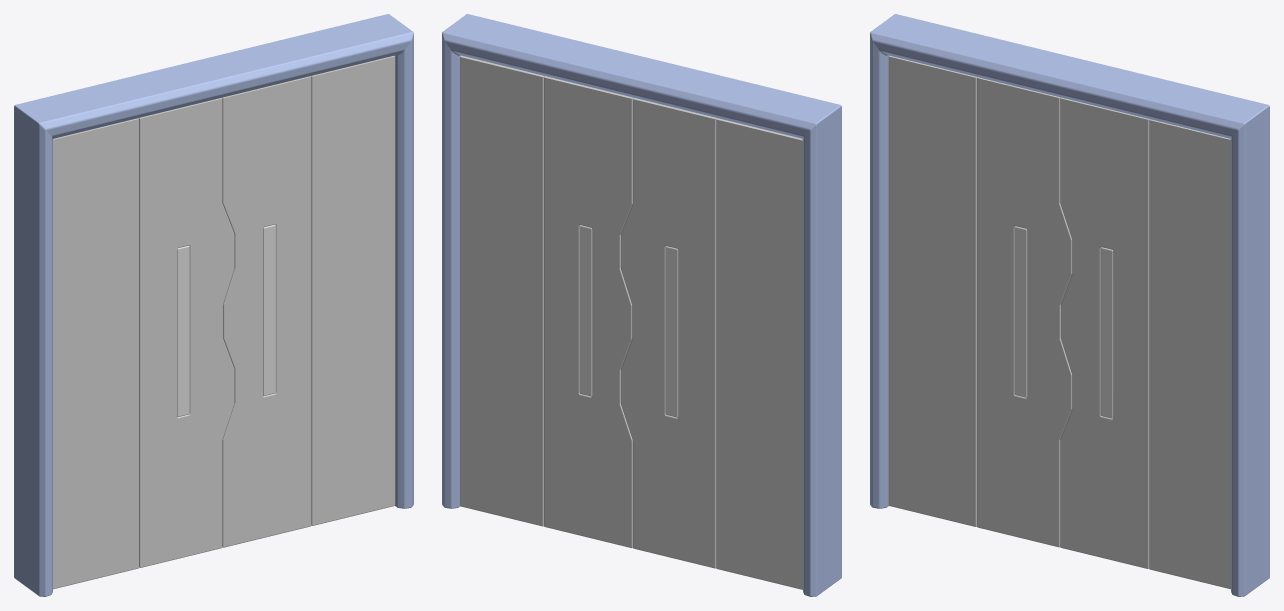
The model's file is elevator_door2_fixED.fbx.
The picture shows the model from 3 angles, left to right: view 1: azimuth 30°, elevation 25°; view 2: azimuth 150°, elevation 25°; view 3: azimuth 330°, elevation 25°; orthographic projection.
Visible parts, largest first — view 1: Plane.001, Plane.002, Cube; view 2: Plane.001, Plane.002, Cube; view 3: Plane.001, Plane.002, Cube.
Part boxes in pixels (left/top/right/bottom): Plane.001: left=53, top=98, right=234, bottom=589; Plane.002: left=222, top=55, right=395, bottom=547; Cube: left=14, top=14, right=413, bottom=596; Plane.001: left=621, top=98, right=802, bottom=589; Plane.002: left=460, top=55, right=633, bottom=548; Cube: left=442, top=14, right=841, bottom=596; Plane.001: left=888, top=55, right=1072, bottom=547; Plane.002: left=1060, top=97, right=1230, bottom=589; Cube: left=870, top=14, right=1269, bottom=596.
Size of the model in its own units: 301 by 363 by 40.95.
